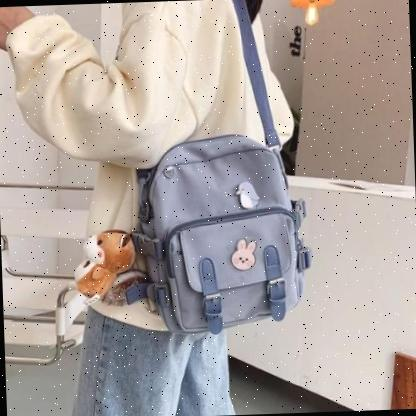bag: (129, 126, 314, 352)
